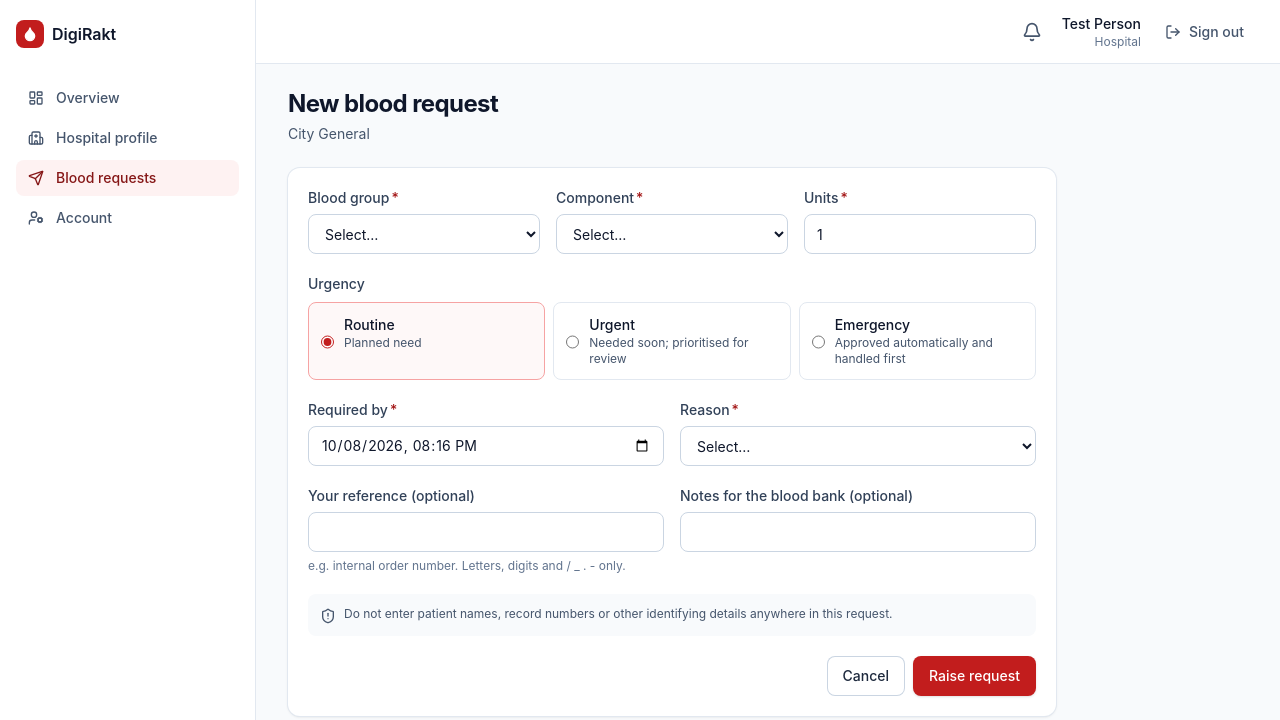
Test case: raising a request › warns before an emergency and sends an ISO required-by time
Select "O-" in the dropdown labelled "Blood group*" at coordinates (424, 234), box [308,214,540,254]
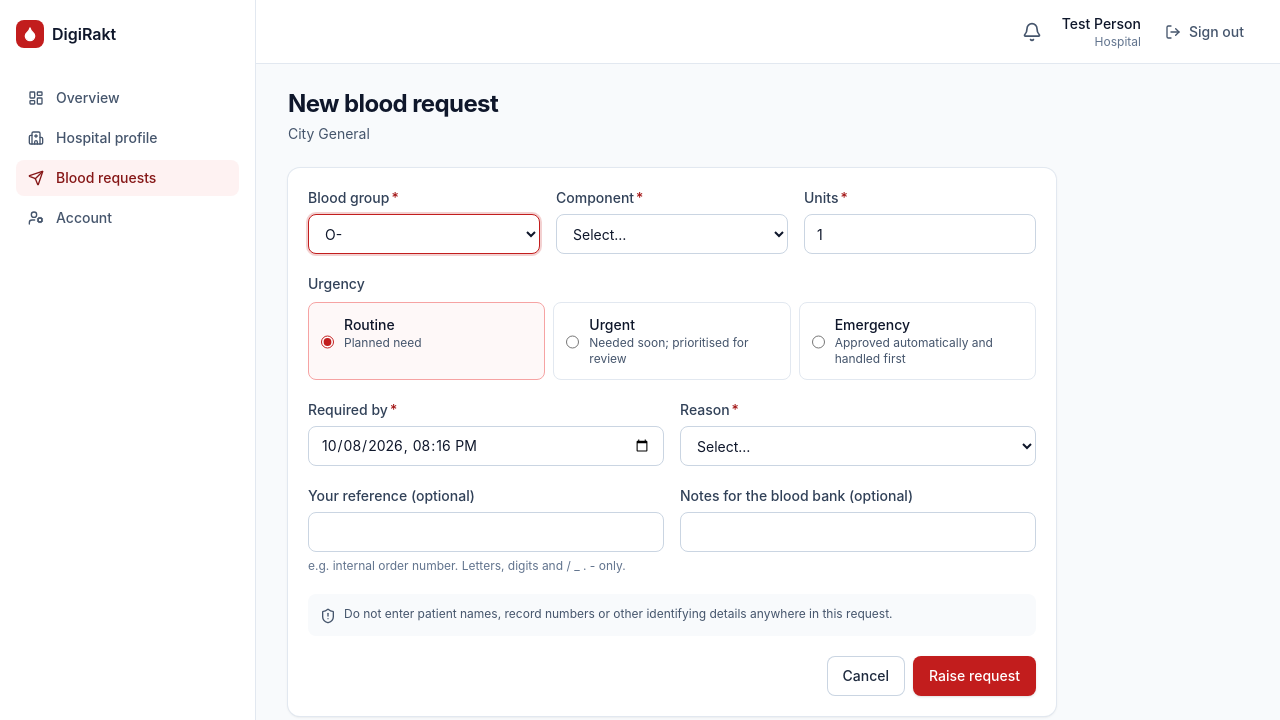
Select "Packed red blood cells" in the dropdown labelled "Component*" at coordinates (672, 234), box [556,214,788,254]
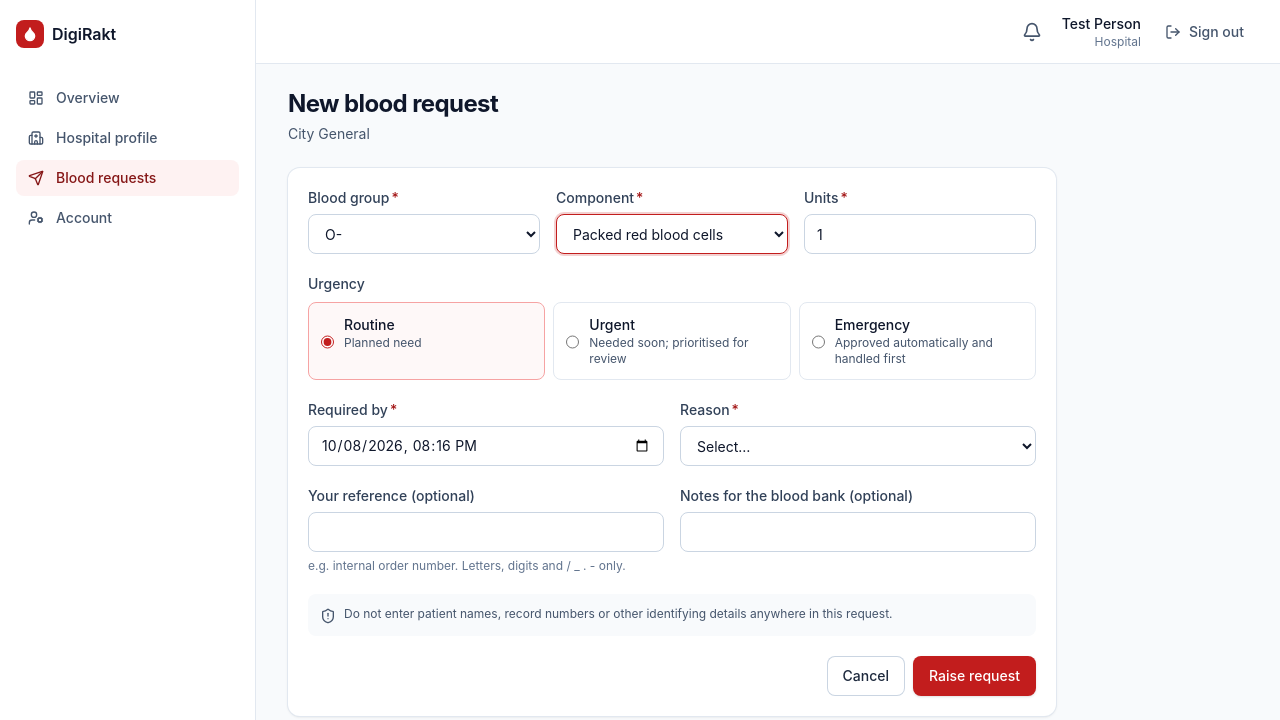
Select "Emergency care" in the dropdown labelled "Reason*" at coordinates (858, 446), box [680,426,1036,466]
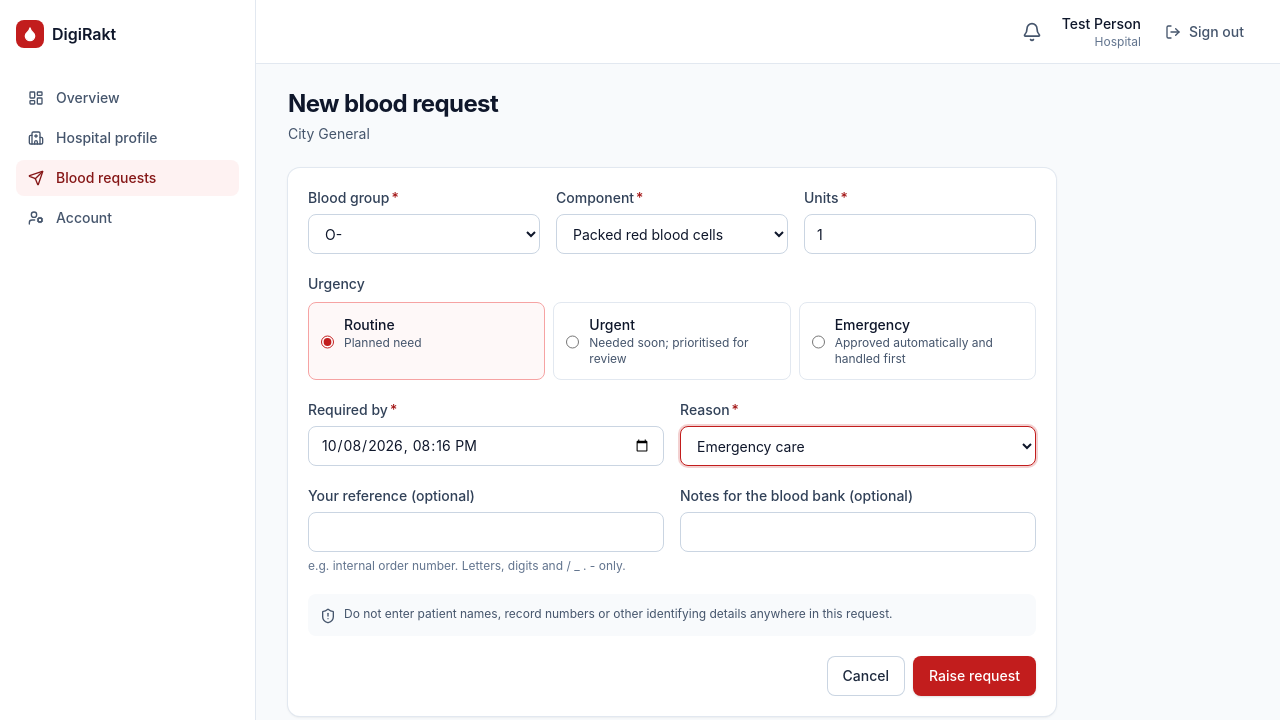
Click the radio button labelled "Emergency Approved automatically and handled first".
click(818, 342)  # box [812,317,825,367]
(page scrolled)
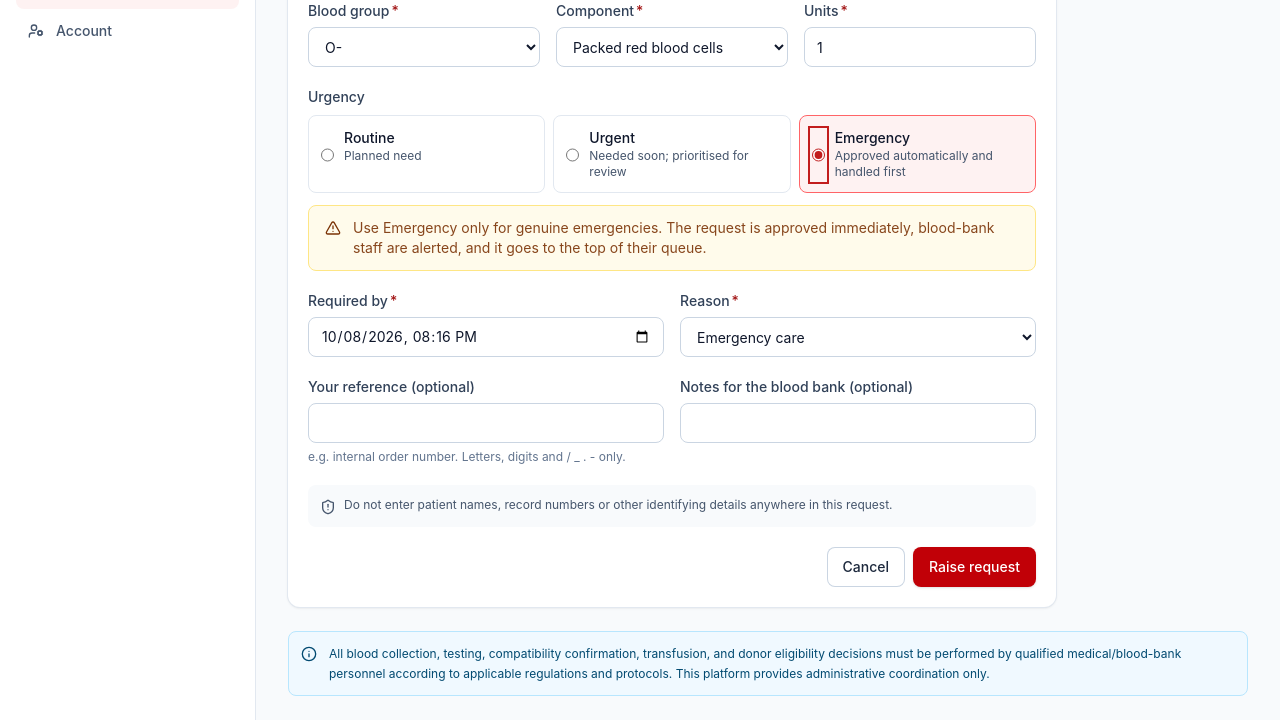
expect the text "genuine emergencies" is shown: met, box [353,219,994,256]
Click the button "Raise request".
click(974, 567)  # box [913,547,1036,587]
(page scrolled)
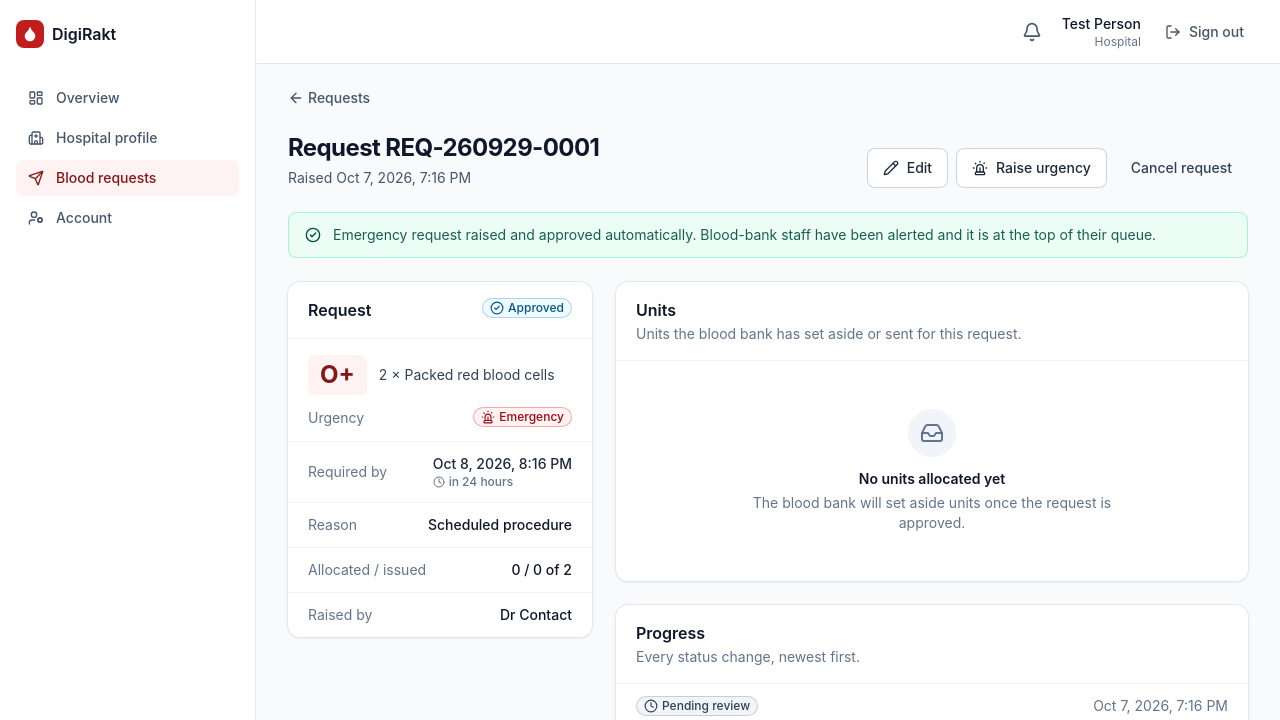
expect the text "approved automatically" is shown: met, box [333,226,1156,243]
